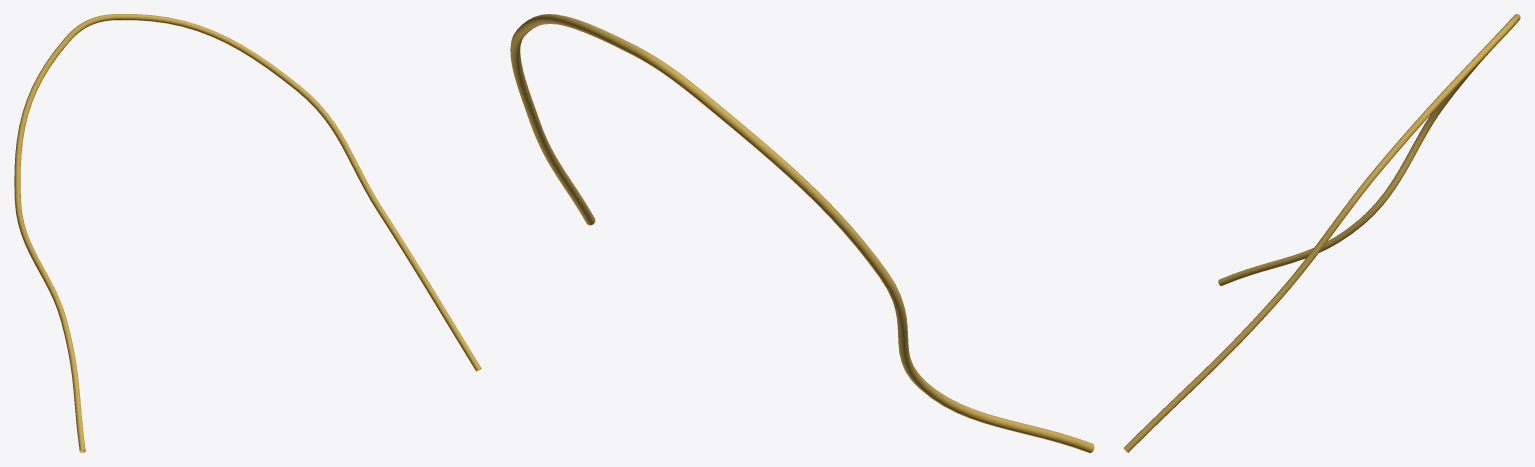
3 views of the same model, side by side, from view 1: azimuth 30°, elevation 25°; view 2: azimuth 150°, elevation 25°; view 3: azimuth 270°, elevation 25° (orthographic). The views are drawn at different scales.
Parts seen in each view (by area): view 1: 左侧臂外侧上皮神经; view 2: 左侧臂外侧上皮神经; view 3: 左侧臂外侧上皮神经.
Boxes of the visible parts, x1=… form: 左侧臂外侧上皮神经: x1=14, y1=14, x2=481, y2=452; 左侧臂外侧上皮神经: x1=510, y1=14, x2=1094, y2=452; 左侧臂外侧上皮神经: x1=1123, y1=14, x2=1520, y2=452.
Bounding box in the file's own units: 0.0981 × 0.0802 × 0.0826.
